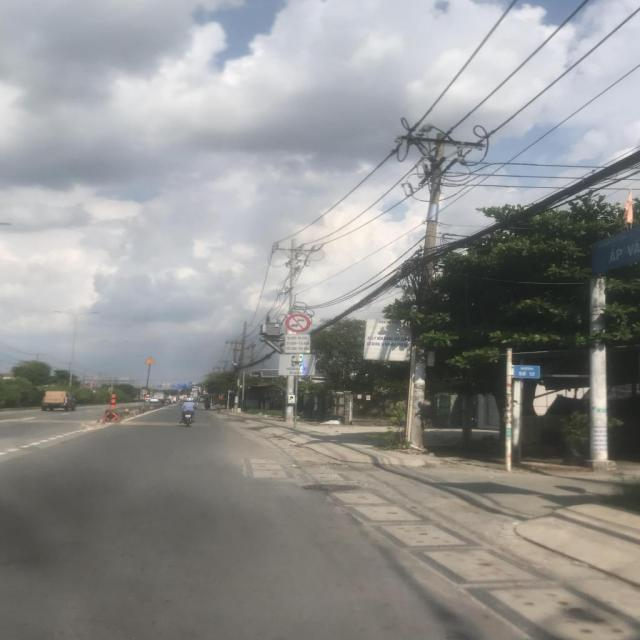cam_o_to_tai_va_xe_khach: (284, 314, 310, 334)
cho_ngoat_nguy_hiem_ben_trai: (143, 356, 156, 365)
khac: (278, 354, 316, 375), (284, 334, 311, 353)
